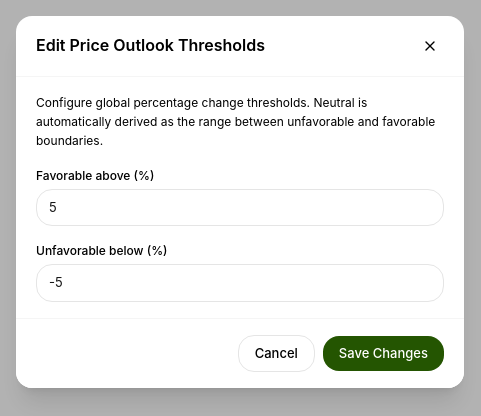
it: EditPriceOutlookModal › treats a rejected promise as a failure rather than a success
What coordinates should you click on to do the following:
click the button "Save Changes"
I would click on:
 (383, 353)
Its box is x1=323 y1=336 x2=444 y2=371.
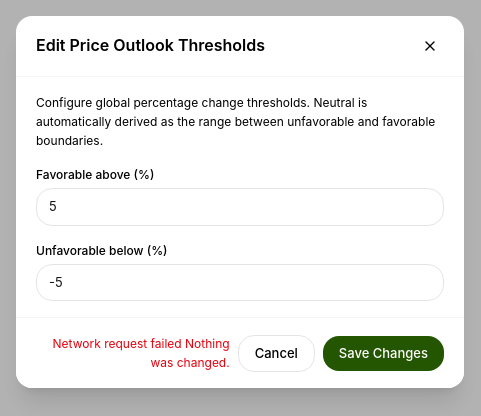
Result: the text "Network request failed Nothing was changed." is shown at x1=36 y1=334 x2=230 y2=372
